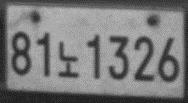1: (35, 30, 52, 77), (85, 32, 101, 79)
2: (133, 35, 156, 82)
3: (107, 34, 129, 80)
6: (156, 36, 180, 82)
8: (10, 30, 31, 75)
노: (57, 39, 80, 79)
